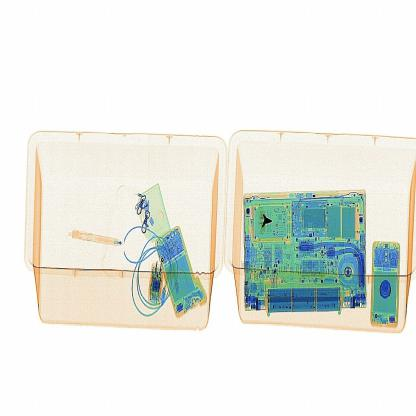gun: (252, 204, 280, 242)
